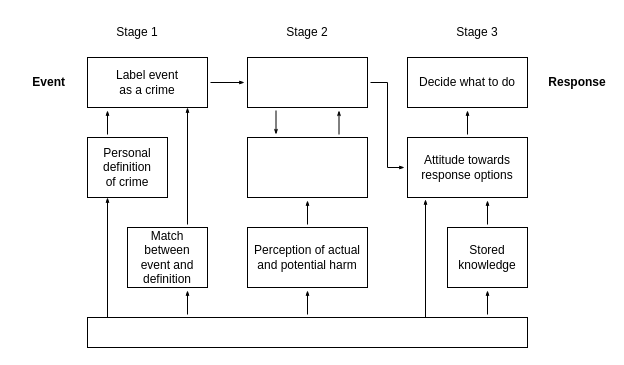
Some shapes in this 624 by 365 pixel diagram are drawn without their labels. Here are the shapes that lost their labels. From the top down, the centre of each, then its label:
the point at 307,82: Affective reactions
the point at 307,167: Determine seriousness of crime
the point at 307,332: Social influence: Informational, Normative, and Socioemotional
